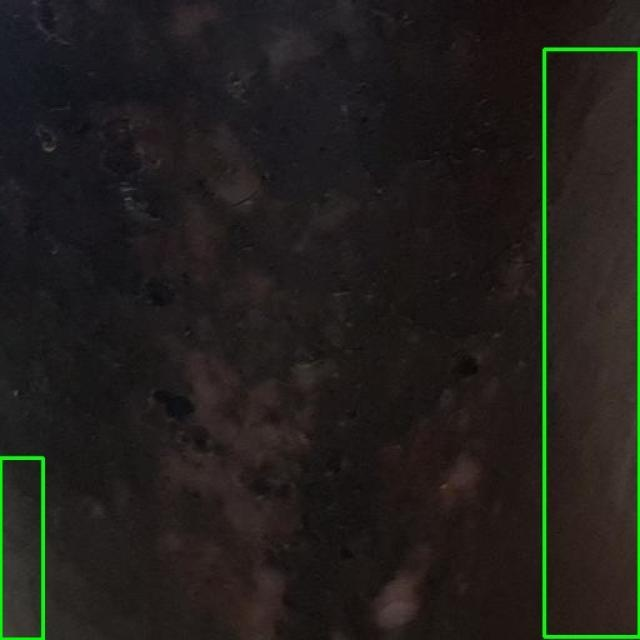Contact Dermatitis: (544, 49, 639, 636), (0, 458, 42, 639)
